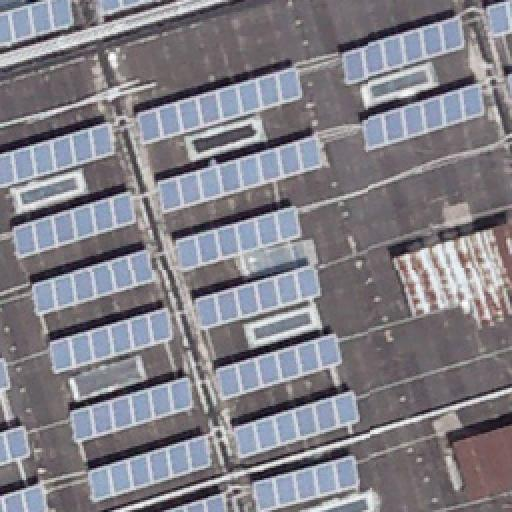solar-panel: (159, 134, 329, 214), (135, 66, 305, 146), (234, 387, 362, 461), (192, 261, 324, 331), (340, 16, 468, 88), (215, 329, 345, 399), (11, 189, 141, 259), (89, 432, 215, 504), (69, 373, 195, 443), (362, 81, 486, 151), (49, 307, 175, 373), (176, 206, 304, 270), (0, 121, 116, 191), (33, 250, 159, 314), (252, 452, 360, 512), (0, 0, 72, 48), (1, 481, 55, 511), (164, 492, 228, 512), (1, 423, 31, 465), (486, 0, 512, 40), (98, 0, 154, 16), (1, 355, 15, 389), (508, 77, 512, 91)
